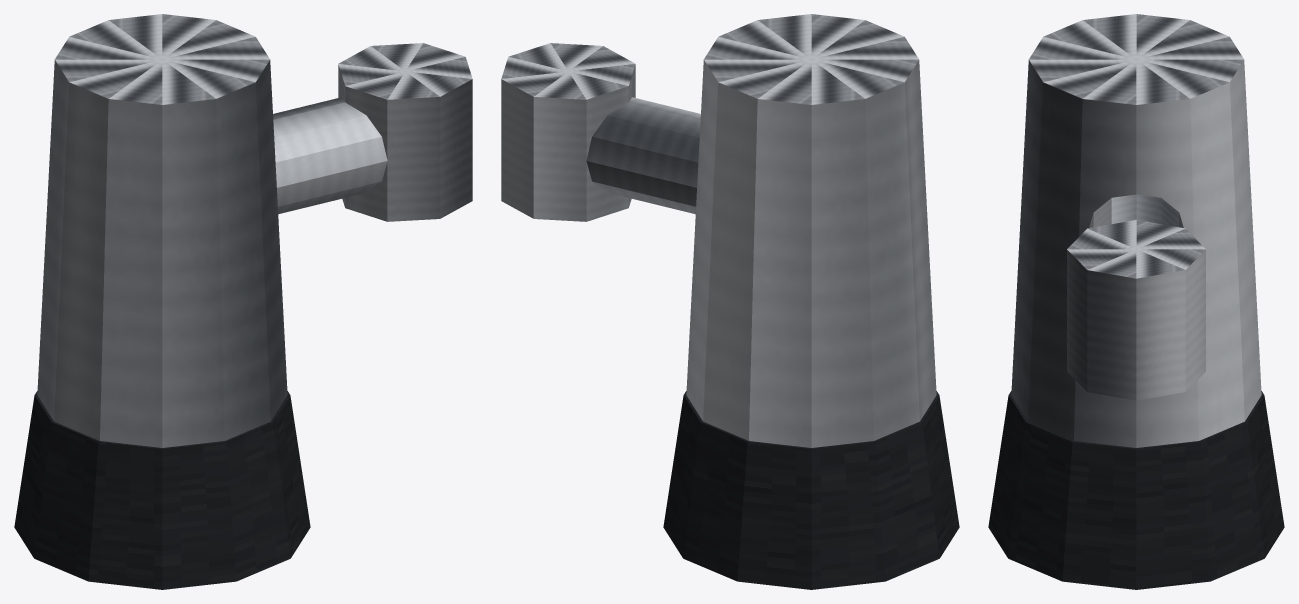
Rendered from hat_clutch.obj.
3 views of the same model, side by side, from view 1: azimuth 30°, elevation 25°; view 2: azimuth 150°, elevation 25°; view 3: azimuth 270°, elevation 25° (orthographic).
Parts seen in each view (by area): view 1: drums; view 2: drums; view 3: drums.
Part boxes in pixels (x1,y1,x2,y2): drums: [14, 14, 472, 589]; drums: [501, 14, 959, 589]; drums: [988, 14, 1284, 589].
Size of the model in its own units: 0.0444 by 0.046 by 0.0264.
